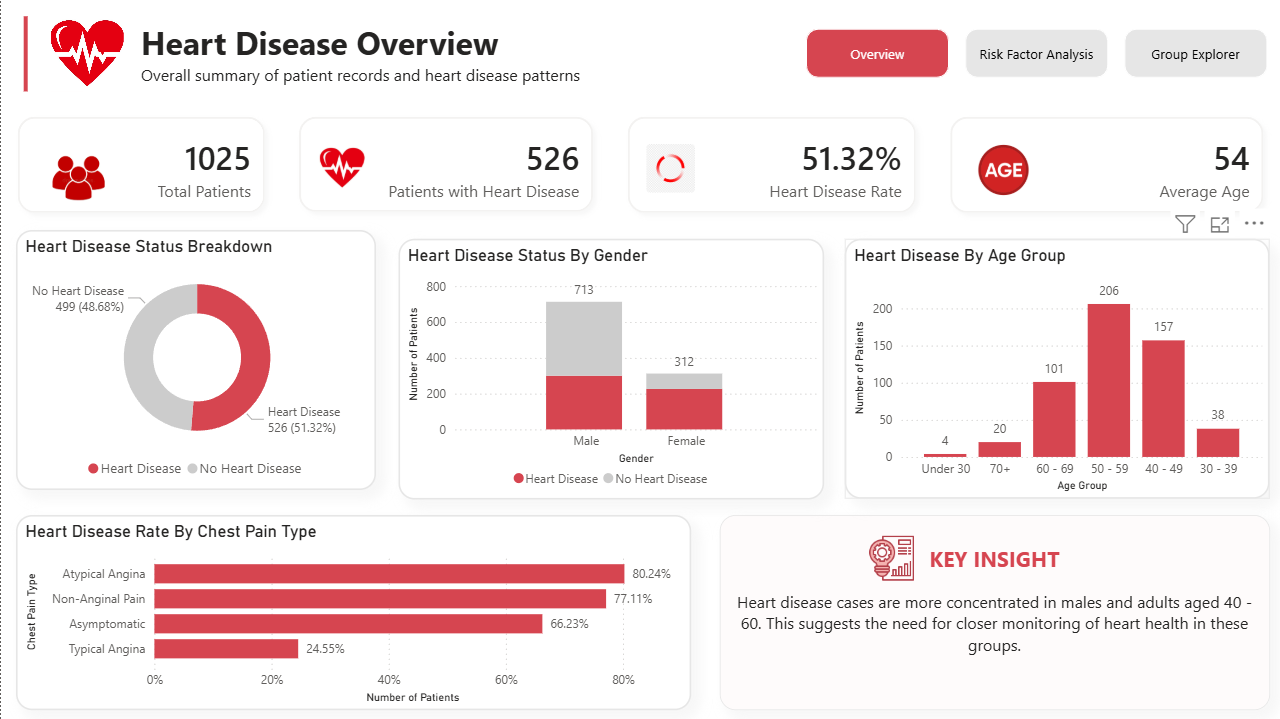

Layout of this report page (visuals, bound fields, positions):
{"tool":"powerbi","page":{"name":"Overview ","canvas":[1280,720],"ordinal":0},"visuals":[{"type":"pageNavigator","box":[805.5,28.8,463.8,49.4],"z":0},{"type":"shape","box":[0,16.5,49.4,75.5],"z":1000},{"type":"textbox","box":[134.5,16.5,583.2,75.5],"z":2000},{"type":"image","box":[49.4,16.5,72.7,75.5],"z":3000},{"type":"cardVisual","fields":{"Data":["Cardio Heart Dashboard.Total Patients"]},"box":[0,100,281.4,130],"z":4000},{"type":"cardVisual","fields":{"Data":["Cardio Heart Dashboard.Patients with Heart Disease"]},"box":[281.3,100.3,328.9,129.6],"z":5000},{"type":"cardVisual","fields":{"Data":["Cardio Heart Dashboard.Heart Disease Rate"]},"box":[610,100,322.9,130],"z":6000},{"type":"cardVisual","fields":{"Data":["Cardio Heart Dashboard.Average Age"]},"box":[932.9,100,347.1,130],"z":7000},{"type":"donutChart","title":"Heart Disease Status Breakdown","fields":{"Category":["Cardio Heart Dashboard.Heart Disease Status"],"Y":["Cardio Heart Dashboard.Total Patients"]},"box":[15,230,360,260],"z":8000},{"type":"columnChart","title":"Heart Disease Status By Gender","fields":{"Series":["Cardio Heart Dashboard.Heart Disease Status"],"Y":["Cardio Heart Dashboard.Total Patients"],"Category":["Cardio Heart Dashboard.Gender"]},"box":[397.4,238.5,425.5,260.5],"z":9000},{"type":"columnChart","title":"Heart Disease By Age Group","fields":{"Category":["Cardio Heart Dashboard.Age Group"],"Y":["Cardio Heart Dashboard.Patients with Heart Disease"]},"box":[843.8,238.8,425,260],"z":10000},{"type":"clusteredBarChart","title":"Heart Disease Rate By Chest Pain Type","fields":{"Category":["Cardio Heart Dashboard.Chest Pain Type"],"Y":["Cardio Heart Dashboard.Heart Disease Rate"]},"box":[15,515,675,195],"z":11000},{"type":"textbox","box":[718.8,515,550,195],"z":12000},{"type":"image","box":[865,535,51.2,46.2],"z":13000}]}

Visuals, with their boxes in screenshot pixels (x1, y1, x2, y2), scaled from the page's 1280x720 canvas onto the 1280x719 screenshot:
pageNavigator: [806,29,1269,78]
shape: [0,16,49,92]
textbox: [134,16,718,92]
image: [49,16,122,92]
cardVisual - Cardio Heart Dashboard.Total Patients: [0,100,281,230]
cardVisual - Cardio Heart Dashboard.Patients with Heart Disease: [281,100,610,230]
cardVisual - Cardio Heart Dashboard.Heart Disease Rate: [610,100,933,230]
cardVisual - Cardio Heart Dashboard.Average Age: [933,100,1279,230]
"Heart Disease Status Breakdown" donutChart: [15,230,375,489]
"Heart Disease Status By Gender" columnChart: [397,238,823,498]
"Heart Disease By Age Group" columnChart: [844,238,1269,498]
"Heart Disease Rate By Chest Pain Type" clusteredBarChart: [15,514,690,709]
textbox: [719,514,1269,709]
image: [865,534,916,580]
